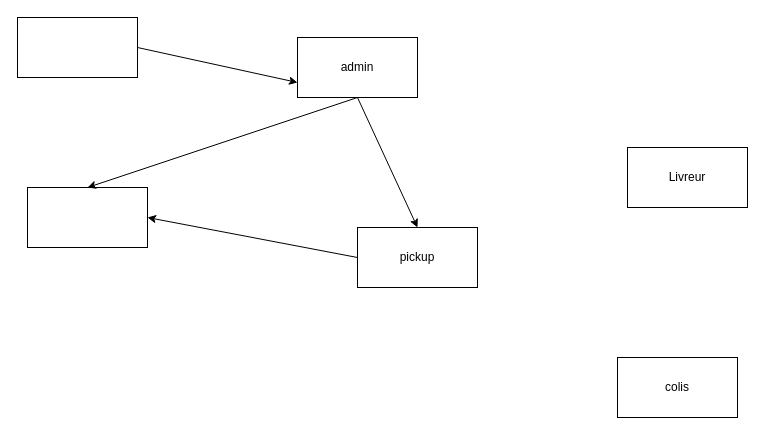
Image size: 765x435. Some labels were removed from this diagram. The box of each missing label's shape, as (x1, y1, x2, y2) in pixels:
Client 1 to *: (26, 186, 148, 248)
superAdmin 1to*: (16, 16, 138, 78)
